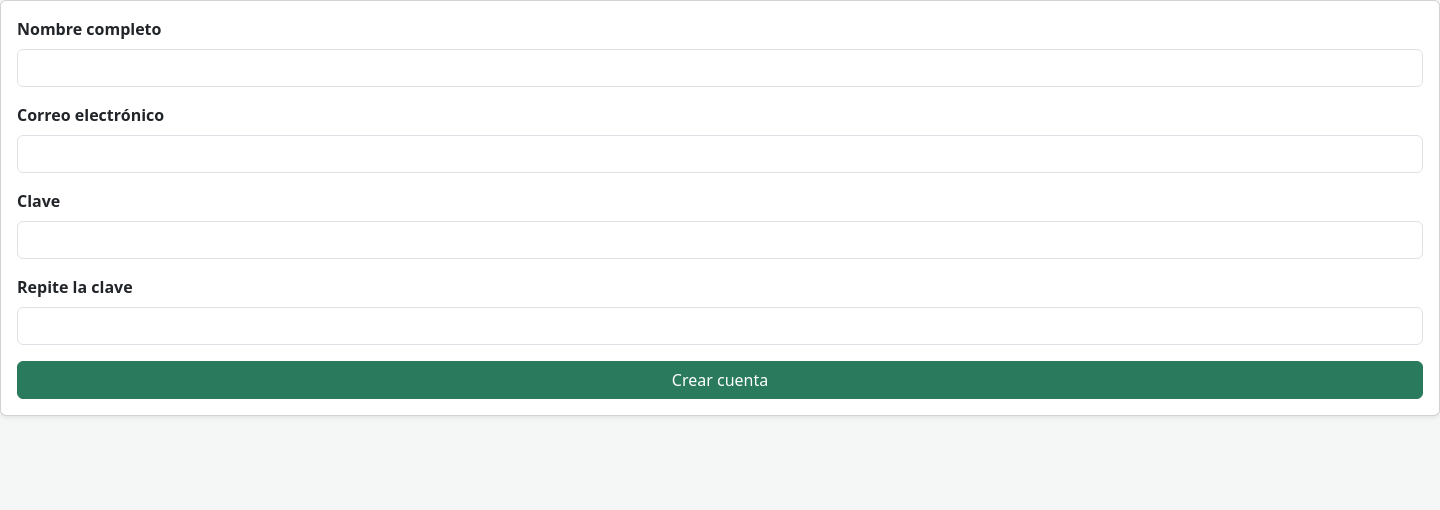
it: FormularioRegistro › muestra los errores y NO avisa a la página si está vacío
This screenshot has width=1440, height=510.
What coordinates should you click on to do the following:
click the button "Crear cuenta"
I would click on:
 (720, 380)
Its box is [17, 361, 1423, 399].
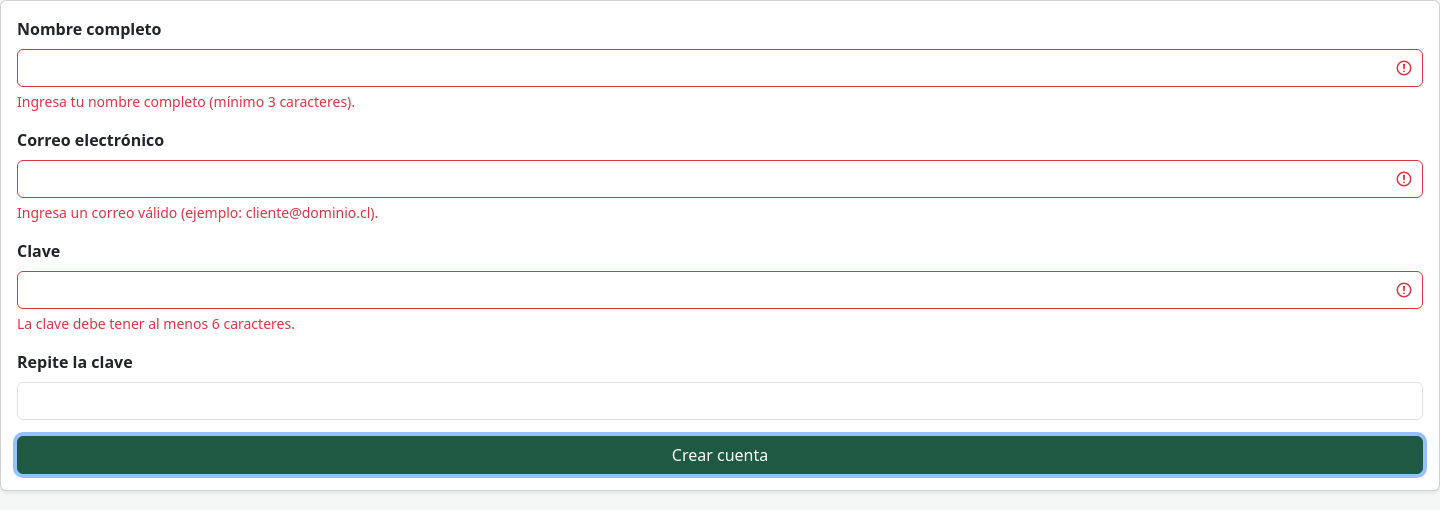
Check: the number of messages is 3, box [17, 92, 355, 111]; [17, 203, 378, 222]; [17, 314, 295, 333]
